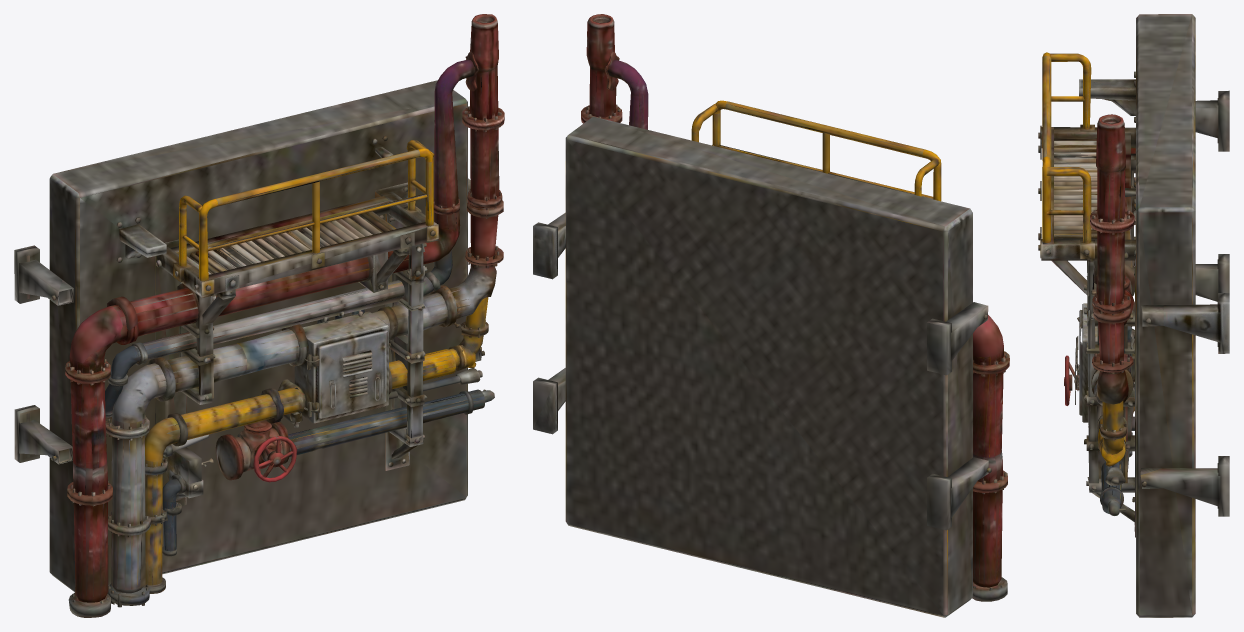
Rendered from pipes.glb.
The picture shows the model from 3 angles, left to right: view 1: azimuth 30°, elevation 25°; view 2: azimuth 150°, elevation 25°; view 3: azimuth 270°, elevation 25°; orthographic projection. The views are drawn at different scales.
Visible parts, largest first — view 1: pipes; view 2: pipes; view 3: pipes.
Part boxes in pixels (left/top/right/bottom): pipes: left=14, top=14, right=504, bottom=617; pipes: left=533, top=14, right=1009, bottom=617; pipes: left=1038, top=14, right=1229, bottom=617.
Bounding box in the file's own units: 4.6 × 5 × 1.72.
Materials: 1 (1 with a texture image).
